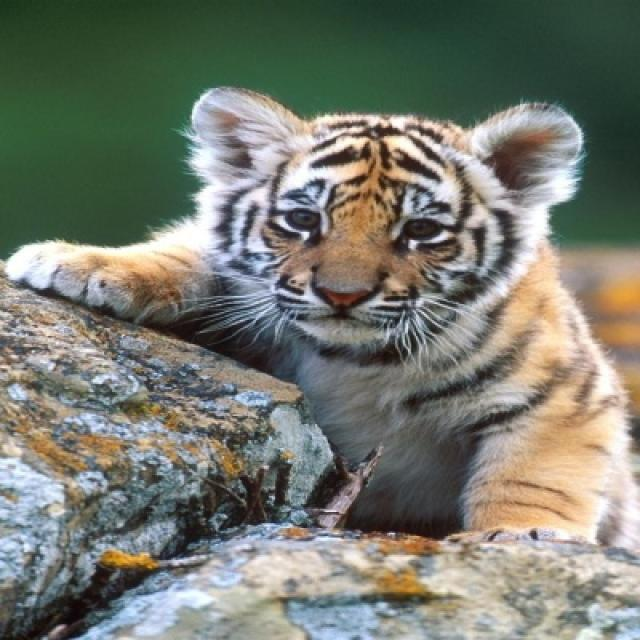Tiger: (3, 83, 625, 546)
